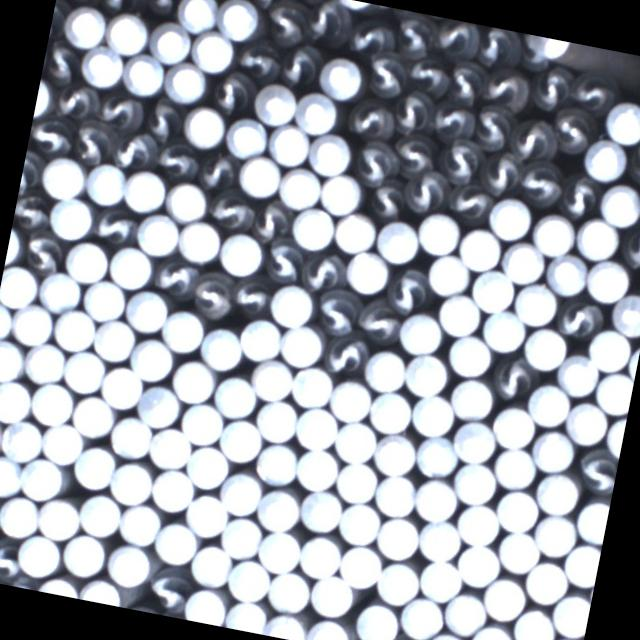tool: (276, 318, 327, 369), (151, 516, 202, 567), (452, 538, 503, 589), (46, 193, 98, 242), (178, 100, 228, 150), (103, 8, 153, 58), (114, 499, 164, 549), (520, 322, 570, 372), (182, 488, 232, 538), (61, 1, 110, 52), (70, 442, 119, 493), (12, 530, 62, 579), (106, 242, 155, 292), (373, 217, 422, 267), (498, 237, 548, 286), (584, 325, 634, 374), (16, 453, 66, 502), (217, 228, 266, 278), (413, 208, 462, 258), (215, 414, 264, 464), (256, 524, 304, 575), (530, 509, 578, 560), (133, 209, 182, 258), (120, 167, 169, 216), (75, 489, 124, 538), (184, 442, 233, 491), (264, 566, 314, 614), (334, 456, 382, 506), (468, 264, 516, 314), (563, 398, 611, 448), (288, 202, 336, 252), (306, 570, 356, 618), (510, 280, 560, 328), (402, 349, 450, 399), (148, 464, 196, 514), (38, 153, 88, 201), (374, 512, 422, 562), (104, 542, 154, 590), (253, 394, 301, 444), (450, 417, 498, 467), (266, 280, 316, 328), (77, 42, 126, 90), (276, 162, 324, 211), (584, 257, 632, 306), (158, 306, 207, 354), (480, 305, 528, 354), (225, 555, 274, 603), (529, 210, 578, 258), (294, 447, 342, 496), (530, 426, 579, 474), (133, 382, 182, 430), (168, 356, 216, 405), (489, 402, 538, 450), (486, 194, 534, 243), (62, 236, 111, 284), (479, 574, 528, 622), (532, 469, 581, 517), (61, 346, 108, 396), (237, 314, 284, 364), (288, 360, 335, 410), (494, 526, 541, 576), (80, 276, 128, 324), (38, 418, 86, 466), (68, 391, 116, 439), (296, 532, 344, 580), (344, 248, 392, 296), (524, 380, 572, 428), (456, 224, 504, 272), (360, 346, 408, 394), (248, 356, 296, 404), (8, 300, 56, 348), (179, 398, 227, 446), (198, 324, 246, 372), (163, 176, 211, 224), (107, 458, 155, 506), (255, 482, 303, 530), (326, 376, 374, 424), (252, 81, 300, 129), (492, 444, 540, 492), (412, 477, 460, 525), (395, 308, 443, 356), (128, 336, 176, 384), (210, 372, 258, 420), (416, 516, 464, 564), (119, 51, 168, 98), (409, 391, 456, 440), (30, 378, 77, 427), (293, 404, 340, 453), (373, 558, 420, 607), (452, 459, 499, 508), (121, 286, 170, 333), (444, 332, 494, 378), (574, 213, 620, 263), (448, 375, 498, 421), (223, 113, 270, 161), (90, 316, 137, 364), (236, 153, 284, 200), (434, 291, 482, 338), (188, 540, 235, 588), (293, 89, 340, 137), (188, 28, 236, 75), (424, 251, 472, 298), (218, 512, 265, 560), (176, 217, 223, 265), (317, 169, 364, 217), (331, 208, 378, 256), (554, 352, 602, 399), (418, 556, 465, 604), (338, 542, 386, 589), (440, 590, 487, 638), (107, 412, 153, 461), (582, 134, 628, 183), (82, 159, 128, 208), (414, 432, 459, 482), (596, 177, 640, 228), (35, 495, 82, 542), (266, 122, 312, 170), (368, 388, 414, 436), (36, 268, 84, 314), (162, 60, 210, 106), (542, 252, 590, 298), (60, 530, 106, 578), (370, 430, 418, 476), (336, 498, 382, 546), (398, 592, 444, 640), (306, 129, 352, 177), (144, 425, 192, 471), (316, 52, 362, 100), (492, 488, 540, 534), (148, 20, 194, 67), (51, 308, 98, 354), (253, 441, 299, 488), (100, 361, 146, 408), (373, 470, 419, 517), (592, 368, 636, 417), (332, 418, 378, 464), (22, 340, 68, 386), (299, 488, 344, 535), (451, 501, 498, 546), (218, 469, 262, 517), (524, 555, 568, 603), (0, 414, 43, 462), (182, 584, 230, 627), (0, 490, 42, 539), (560, 539, 602, 588), (548, 593, 592, 639), (353, 598, 401, 640), (216, 0, 262, 43), (0, 262, 41, 309), (602, 96, 640, 146), (223, 596, 269, 635), (508, 605, 556, 640), (173, 0, 221, 34), (574, 498, 610, 543), (607, 290, 640, 338), (0, 375, 32, 423), (80, 574, 124, 607), (264, 610, 309, 640), (524, 34, 570, 62), (37, 570, 81, 598), (0, 336, 26, 383), (0, 451, 24, 498), (307, 616, 353, 640), (466, 620, 513, 640), (0, 300, 15, 343), (423, 628, 470, 640)
tool_b: (352, 292, 407, 350), (551, 295, 609, 348), (140, 562, 192, 618), (63, 119, 120, 170), (108, 124, 162, 176), (347, 135, 399, 189), (202, 186, 258, 236), (359, 49, 411, 102), (484, 356, 540, 405), (313, 284, 362, 339), (440, 56, 488, 112), (517, 158, 568, 210), (384, 263, 434, 316), (301, 0, 353, 50), (187, 268, 237, 320), (508, 114, 558, 165), (152, 136, 202, 187), (389, 10, 438, 62), (436, 138, 486, 188), (476, 148, 526, 198), (257, 0, 308, 49), (479, 64, 530, 113), (340, 96, 394, 142), (19, 230, 69, 278), (44, 78, 98, 122), (389, 88, 435, 139), (93, 89, 145, 134), (346, 12, 394, 60), (574, 450, 620, 500), (445, 182, 497, 226), (248, 197, 296, 244), (402, 168, 449, 216), (301, 248, 350, 294), (430, 16, 480, 61), (404, 50, 452, 96), (469, 105, 515, 153), (530, 63, 574, 113), (426, 98, 476, 142), (476, 26, 524, 71), (88, 203, 138, 246), (260, 240, 306, 286), (27, 112, 74, 157), (208, 68, 252, 116), (550, 106, 594, 154), (150, 256, 197, 300), (41, 38, 82, 87), (394, 136, 438, 180), (234, 42, 280, 84), (280, 40, 320, 88), (195, 148, 238, 192), (140, 98, 182, 143), (566, 72, 610, 114), (230, 274, 272, 318), (12, 190, 54, 232), (18, 147, 48, 198), (369, 181, 406, 222), (0, 531, 28, 581), (618, 222, 640, 269), (626, 137, 640, 185), (142, 0, 180, 16), (100, 0, 143, 13), (248, 0, 290, 10)
